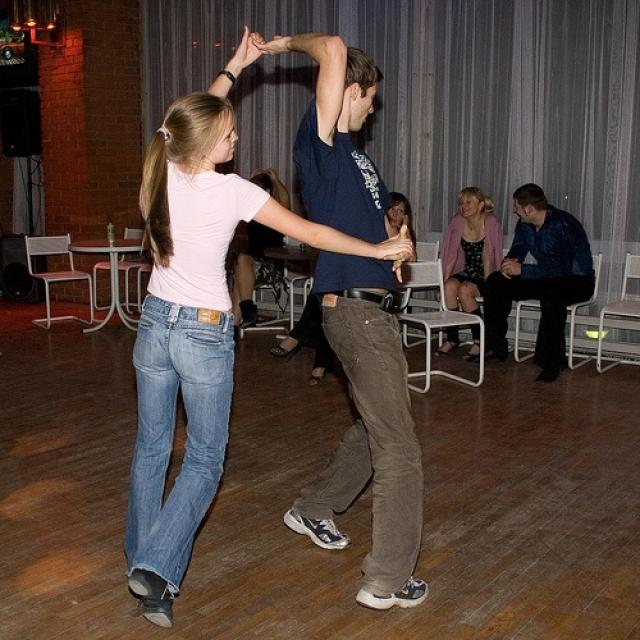chair: (387, 258, 494, 404), (511, 240, 594, 378), (436, 228, 510, 363), (18, 230, 95, 333), (598, 239, 638, 392), (94, 222, 140, 318)
